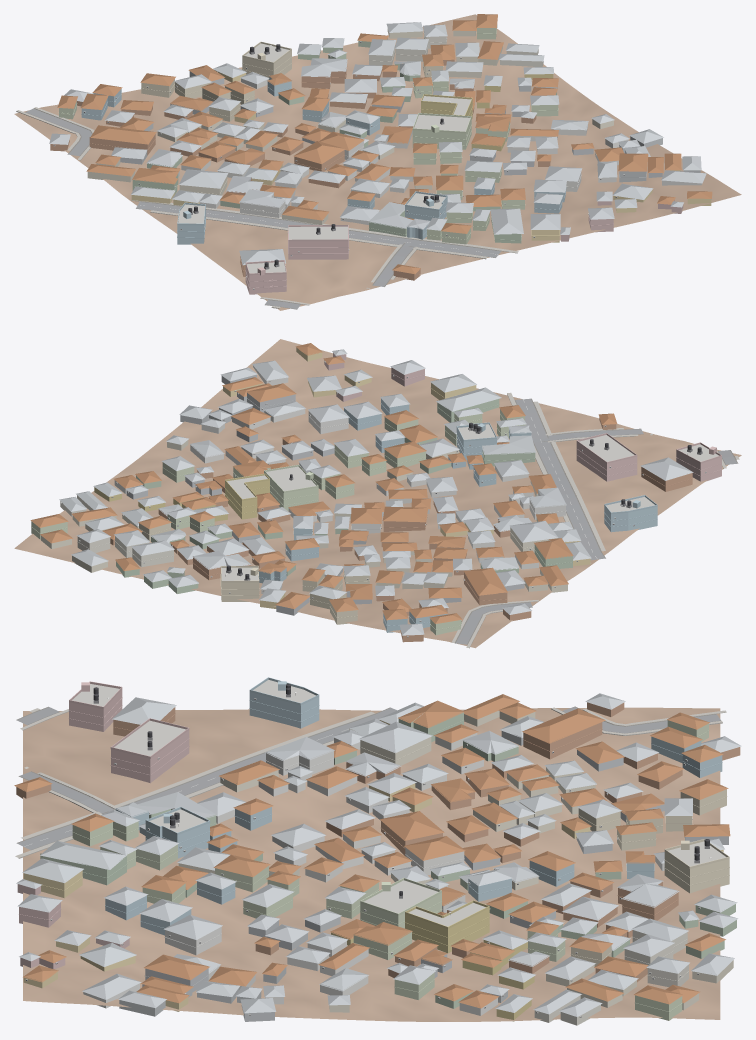
3 renders of one model, top to bottom at view 1: azimuth 30°, elevation 25°; view 2: azimuth 150°, elevation 25°; view 3: azimuth 270°, elevation 25°, orthographic. The views are drawn at different scales.
Parts seen in each view (by area): view 1: Buildings-col, Terrain-col, Details, Roads-col, Sidewalks-col; view 2: Buildings-col, Terrain-col, Details, Roads-col, Sidewalks-col; view 3: Buildings-col, Terrain-col, Details, Roads-col, Sidewalks-col.
Boxes of the visible parts, x1,y1,x2,y2 form: Buildings-col: (49, 14, 712, 294); Terrain-col: (14, 14, 741, 310); Details: (53, 28, 711, 289); Roads-col: (25, 108, 501, 309); Sidewalks-col: (16, 107, 518, 308); Buildings-col: (30, 343, 721, 642); Terrain-col: (14, 339, 741, 648); Details: (31, 361, 721, 637); Roads-col: (455, 398, 738, 644); Sidewalks-col: (451, 392, 739, 648); Buildings-col: (14, 680, 741, 1025); Terrain-col: (23, 707, 720, 1021); Details: (19, 677, 729, 1017); Roads-col: (16, 706, 720, 850); Sidewalks-col: (15, 707, 726, 858).
Bounding box in the file's own units: 267 × 21.01 × 267.
